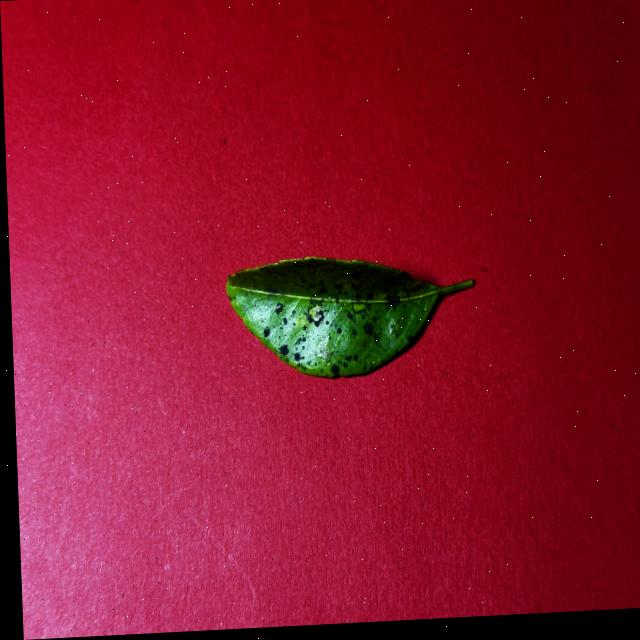sooty_mold: (227, 256, 473, 377)
